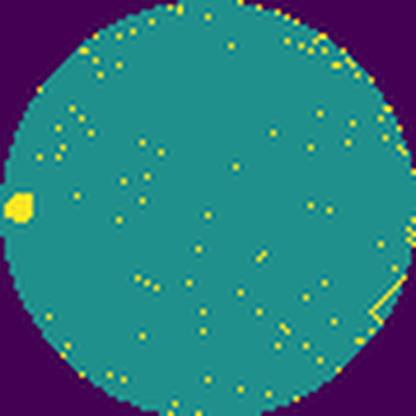Loc: (7, 193, 34, 222)
